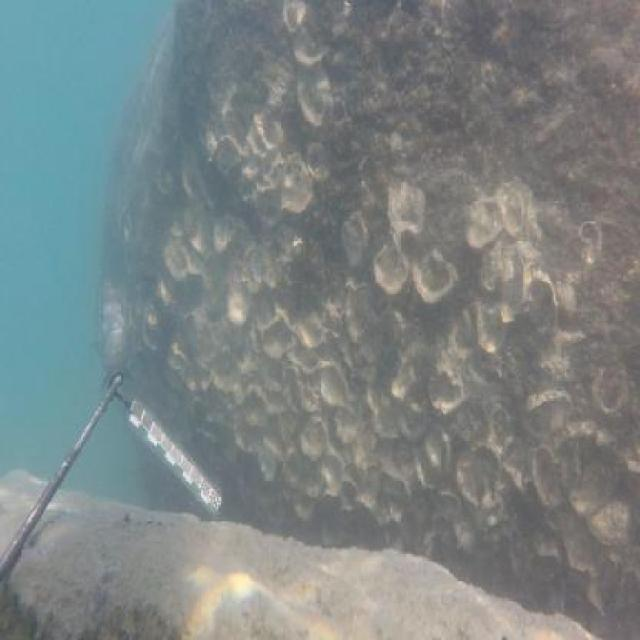acanthopagrus_palmaris: (95, 269, 128, 382)
